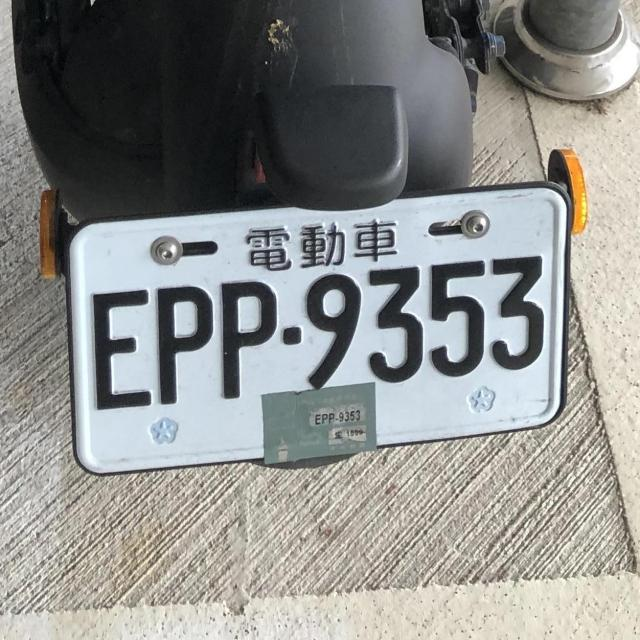W: (73, 172, 560, 456)
